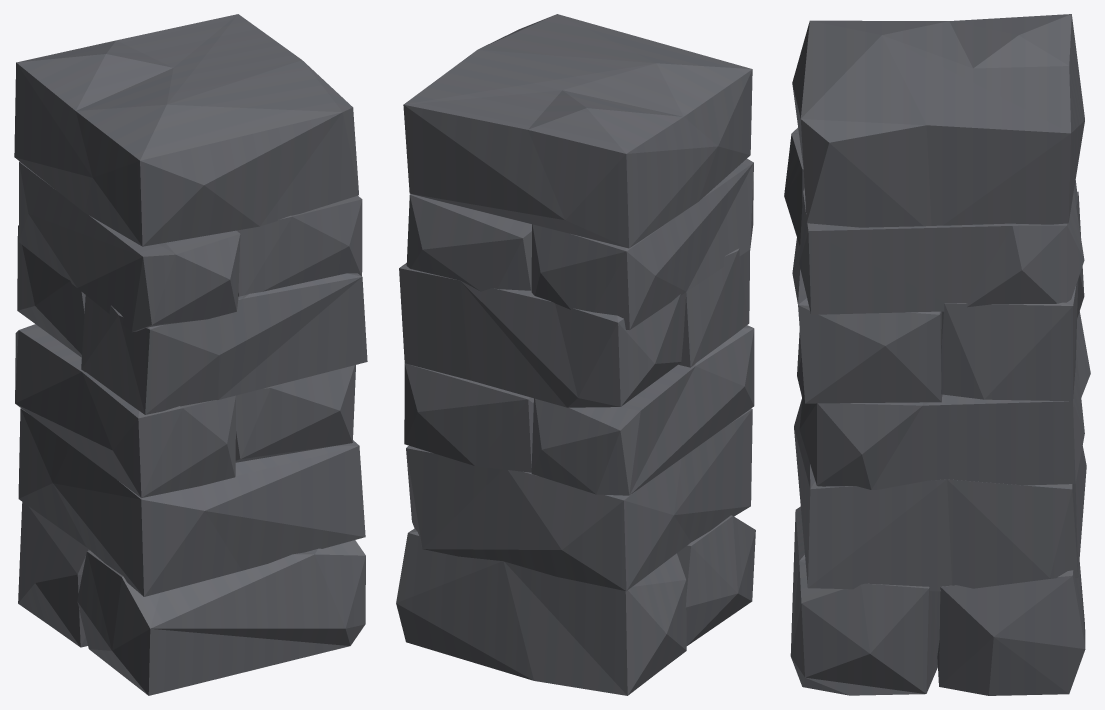
Rendered from Wall_1C.fbx.
3 renders of one model, left to right at view 1: azimuth 30°, elevation 25°; view 2: azimuth 150°, elevation 25°; view 3: azimuth 270°, elevation 25°, orthographic. The views are drawn at different scales.
Parts seen in each view (by area): view 1: polySurface10122; view 2: polySurface10122; view 3: polySurface10122.
Part boxes in pixels (bbox=[...]): polySurface10122: bbox=[14, 14, 367, 695]; polySurface10122: bbox=[396, 14, 755, 695]; polySurface10122: bbox=[784, 14, 1090, 695].
Bounding box in the file's own units: 112 × 241 × 116.
